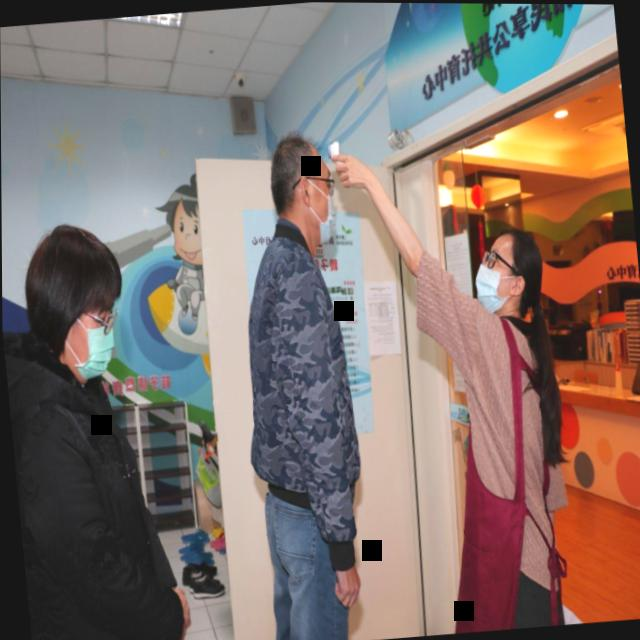Mask: (12, 216, 141, 397), (256, 125, 346, 253), (463, 222, 550, 326)
